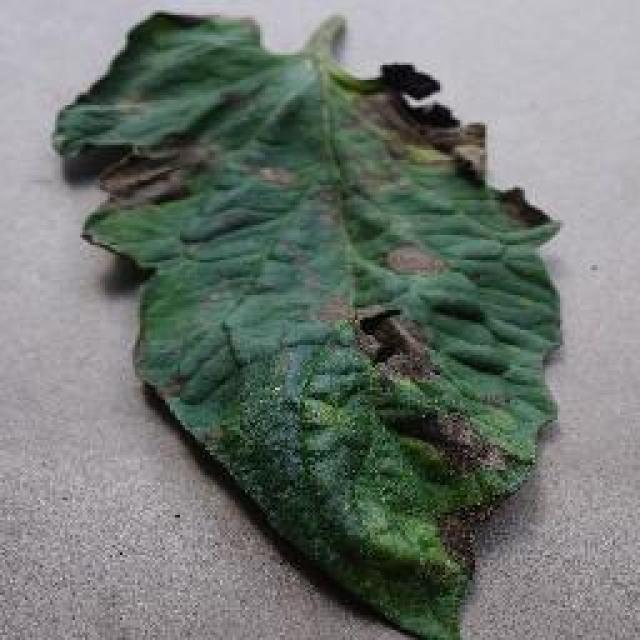Tomato___Early_blight: (49, 9, 571, 638)
